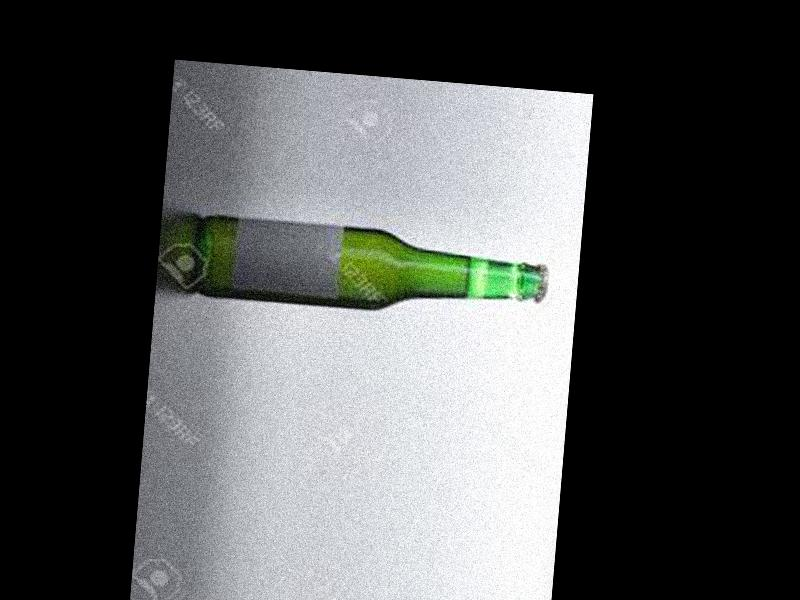Beer: (193, 213, 551, 324)
